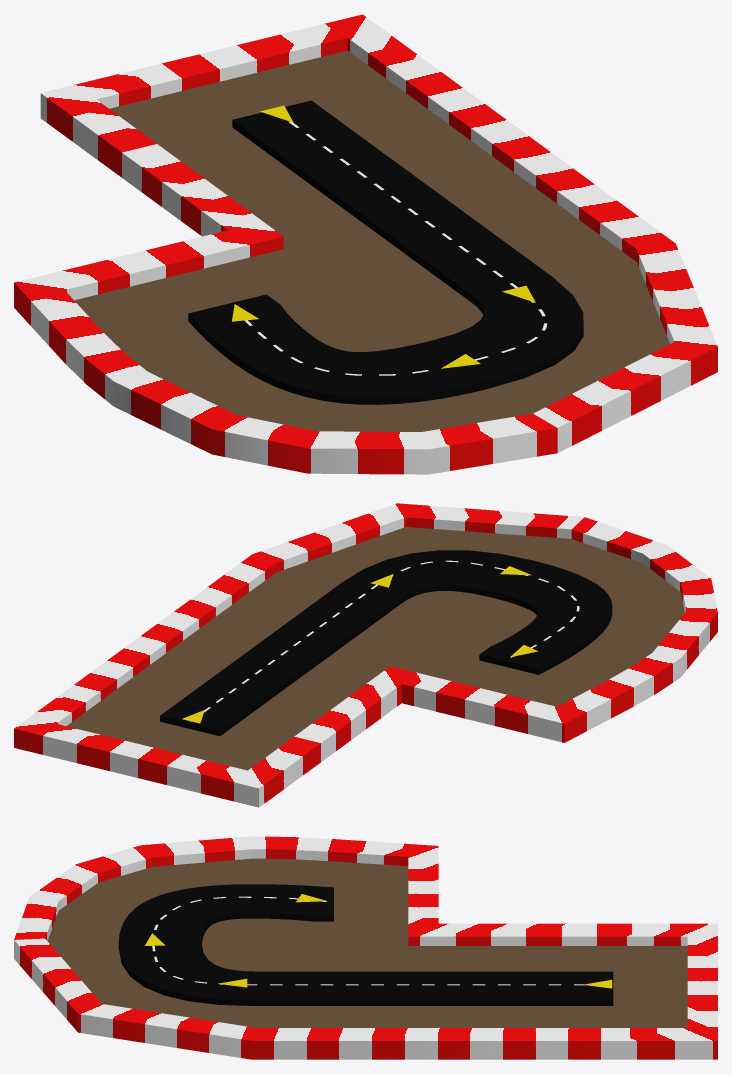
Rendered from lam.FBX.
3 views of the same model, one above another, from view 1: azimuth 30°, elevation 25°; view 2: azimuth 150°, elevation 25°; view 3: azimuth 270°, elevation 25° (orthographic). The views are drawn at different scales.
Parts seen in each view (by area): view 1: lam_floor, lam_coll, lam, line0; view 2: lam_floor, lam_coll, lam, line0; view 3: lam_floor, lam_coll, lam, line0.
Boxes of the visible parts, x1,y1,x2,y2 form: lam_floor: [74, 50, 669, 431]; lam_coll: [14, 14, 717, 474]; lam: [188, 100, 583, 404]; line0: [234, 121, 547, 375]; lam_floor: [66, 527, 684, 770]; lam_coll: [14, 503, 717, 807]; lam: [160, 550, 612, 736]; line0: [190, 560, 579, 721]; lam_floor: [47, 858, 687, 1027]; lam_coll: [14, 836, 717, 1059]; lam: [118, 884, 613, 1005]; line0: [152, 896, 584, 985].
Bounding box in the file's own units: 764 × 32.76 × 1112.
